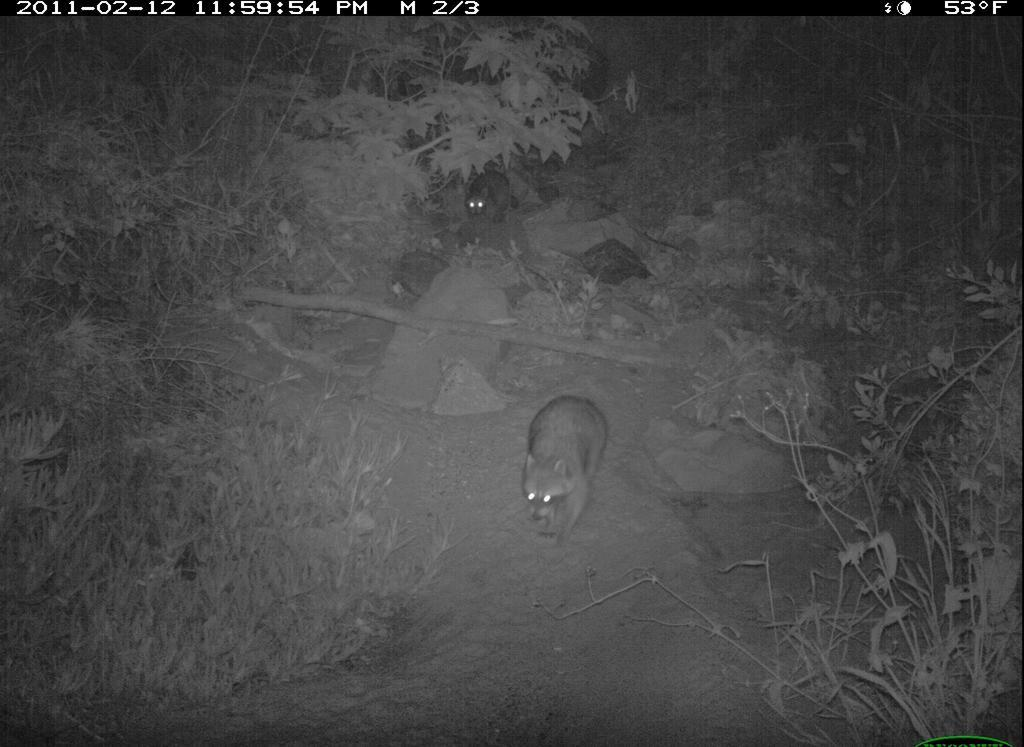raccoon: (520, 390, 610, 556), (460, 164, 518, 230)
